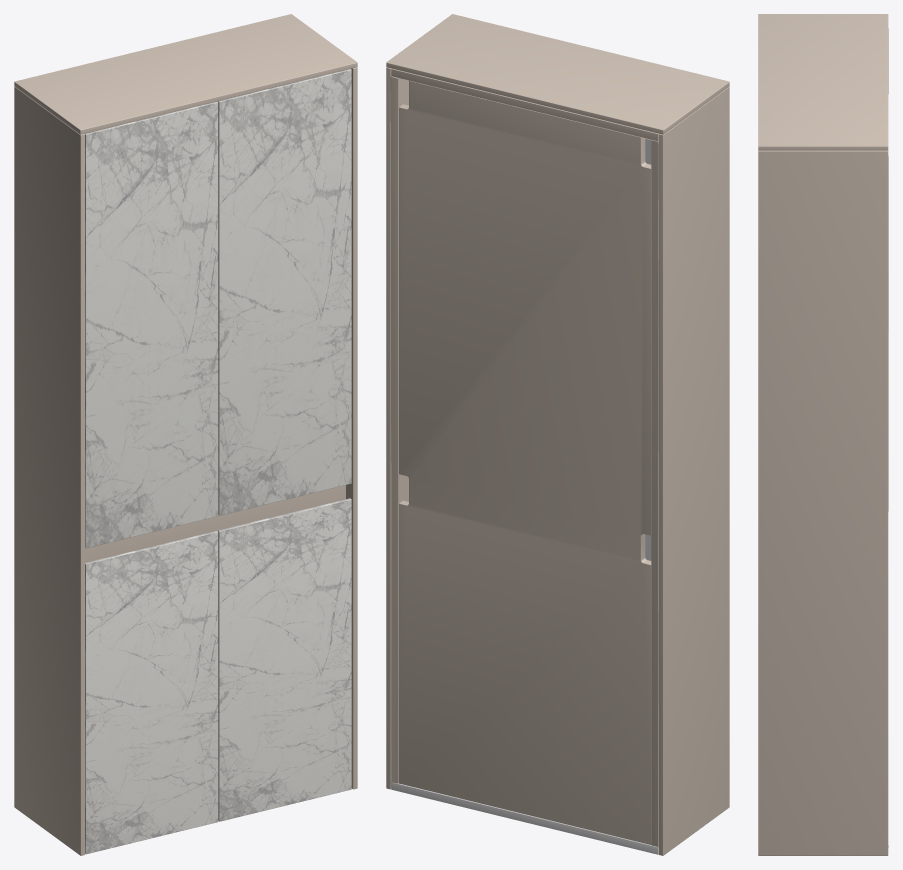
3 views of the same model, side by side, from view 1: azimuth 30°, elevation 25°; view 2: azimuth 150°, elevation 25°; view 3: azimuth 270°, elevation 25° (orthographic). The views are drawn at different scales.
Parts seen in each view (by area): view 1: EL12; view 2: EL12; view 3: EL12.
Boxes of the visible parts, box(x1,y1,x2,y2) form: EL12: box(14, 14, 357, 855); EL12: box(386, 14, 729, 855); EL12: box(758, 14, 888, 855).
Size of the model in its own units: 0.6 by 1.5 by 0.25.
4 materials, 1 textured.
